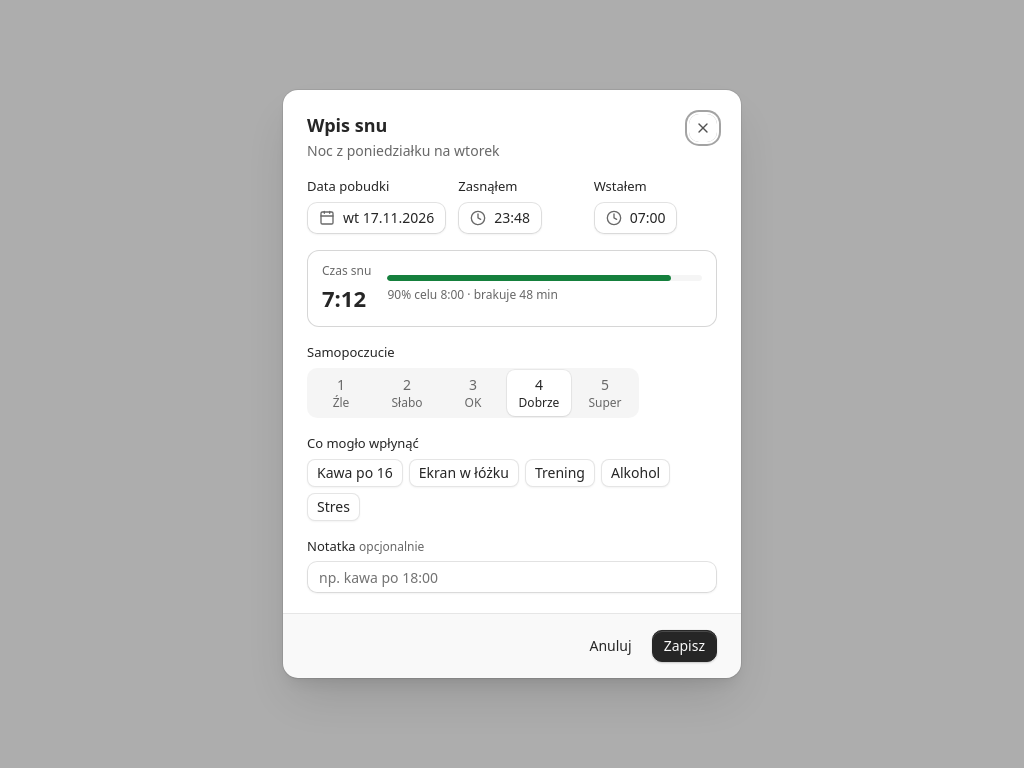
Test: SleepDialog › zmiana daty pobudki na dzień z wpisem ładuje jego wartości
What coordinates should you click on to do the following:
click the button with aria-label "Data pobudki"
I would click on:
 (377, 218)
Its box is top-left (307, 202), bottom-right (446, 234).
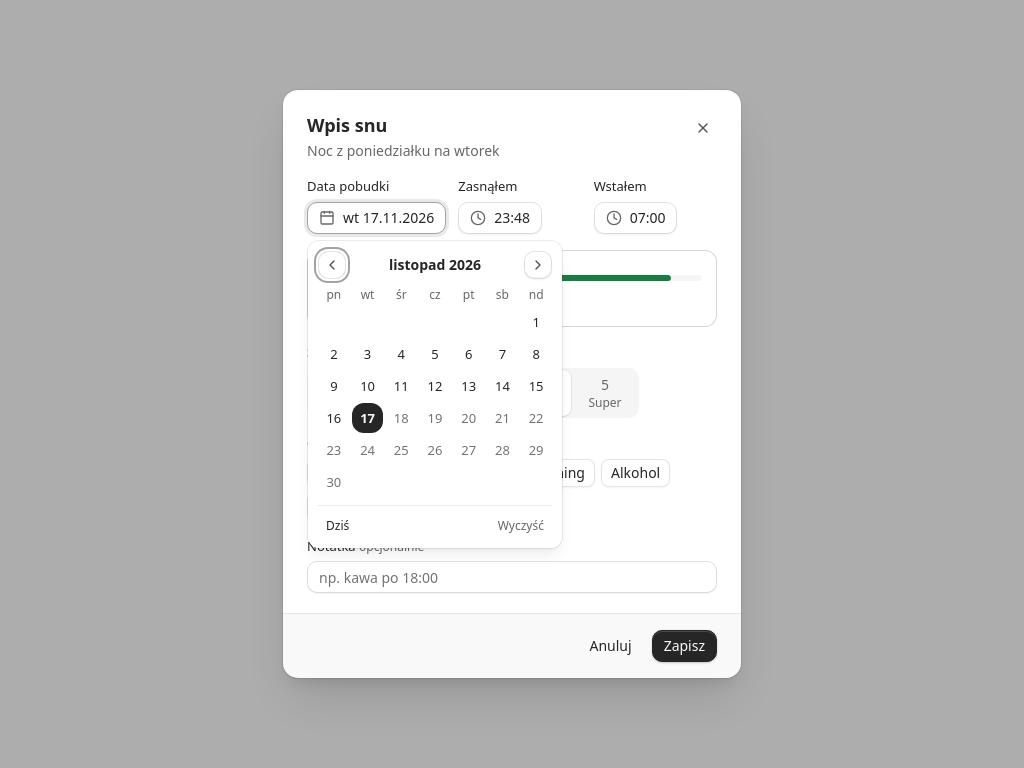
What coordinates should you click on to do the following:
click the button "16"
I would click on:
 (334, 418)
Its box is top-left (318, 403), bottom-right (350, 433).
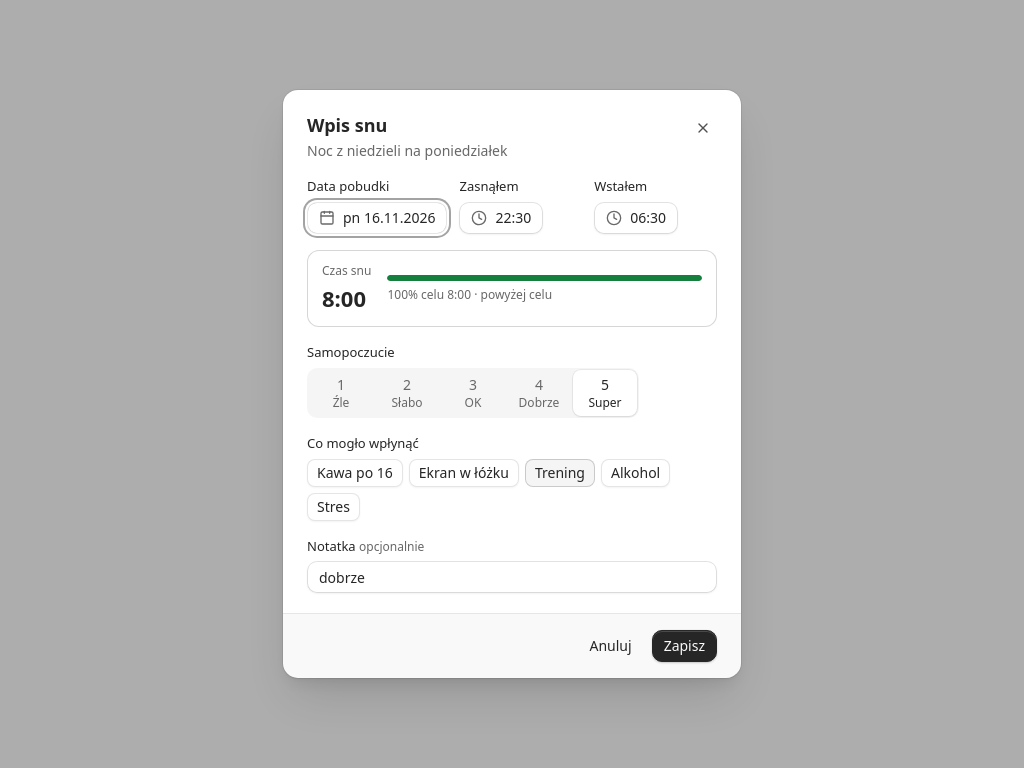
expect the button named "Zasnąłem" reads "22:30": met, box top-left (460, 202), bottom-right (543, 234)
expect the button named "Wstałem" reads "06:30": met, box top-left (594, 202), bottom-right (678, 234)
expect the radio button labelled "5 Super" is checked: met, box top-left (573, 370), bottom-right (637, 416)
